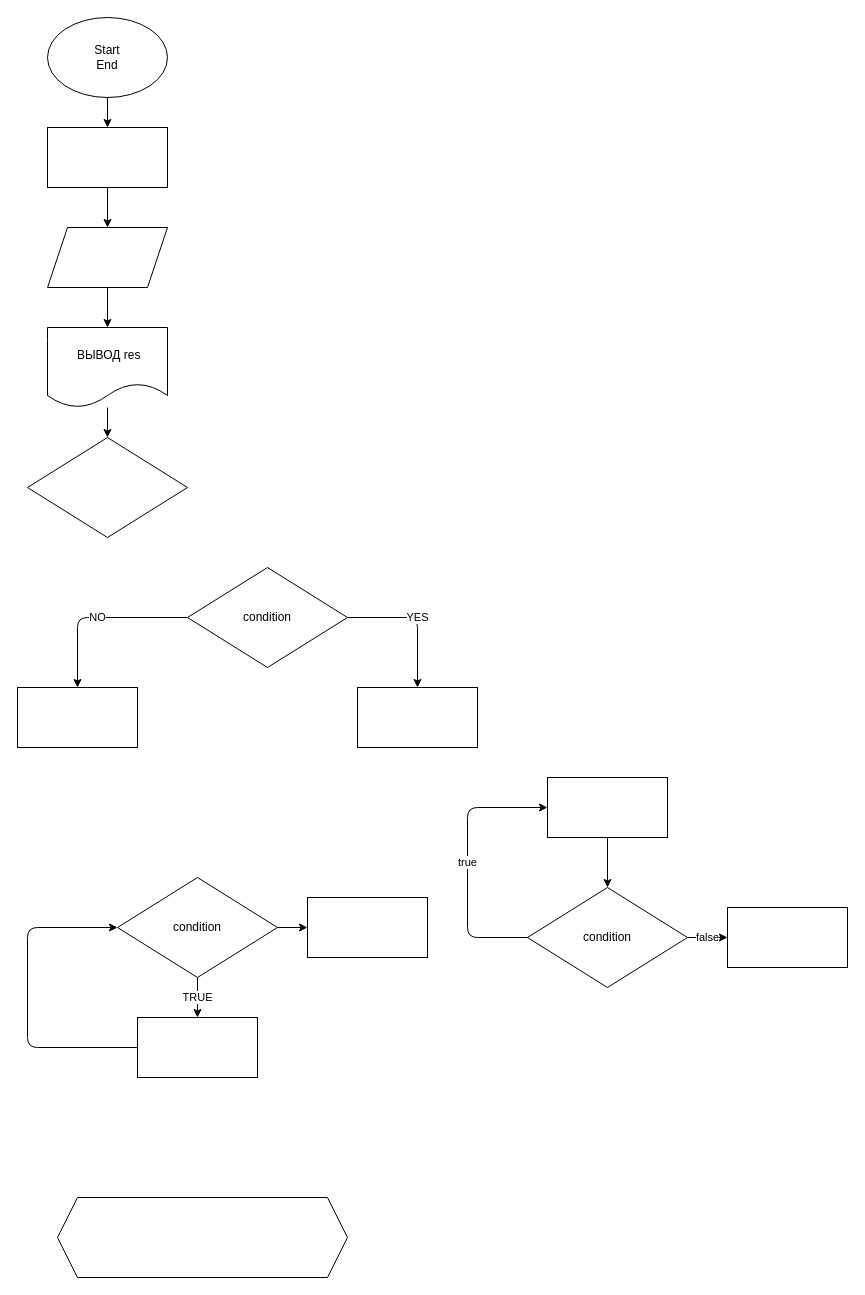
Image size: 865x1295. Some labels were removed from this diagram. The centre of each missing label's shape, as x and y in pixels:
"count = 0 res = 1 * sqrt (2)" belongs at [107,157].
"count = 1, 10" belongs at [202,1237].
"ВВОД count" belongs at [107,257].
